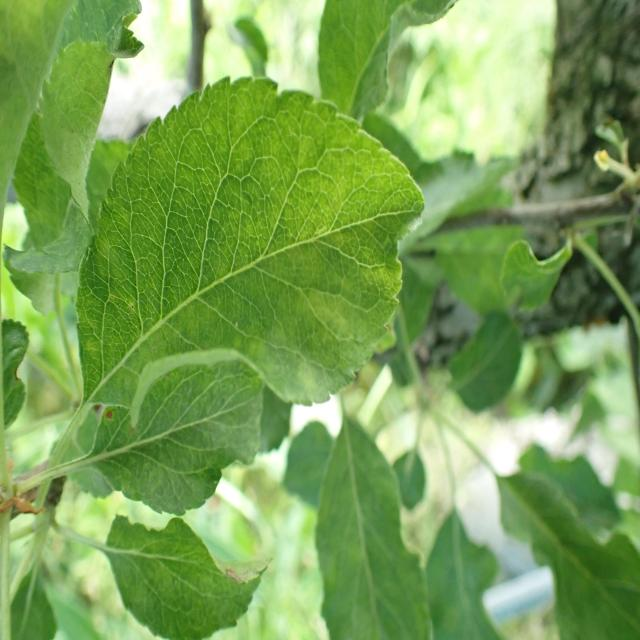scab: (94, 127, 429, 390)
